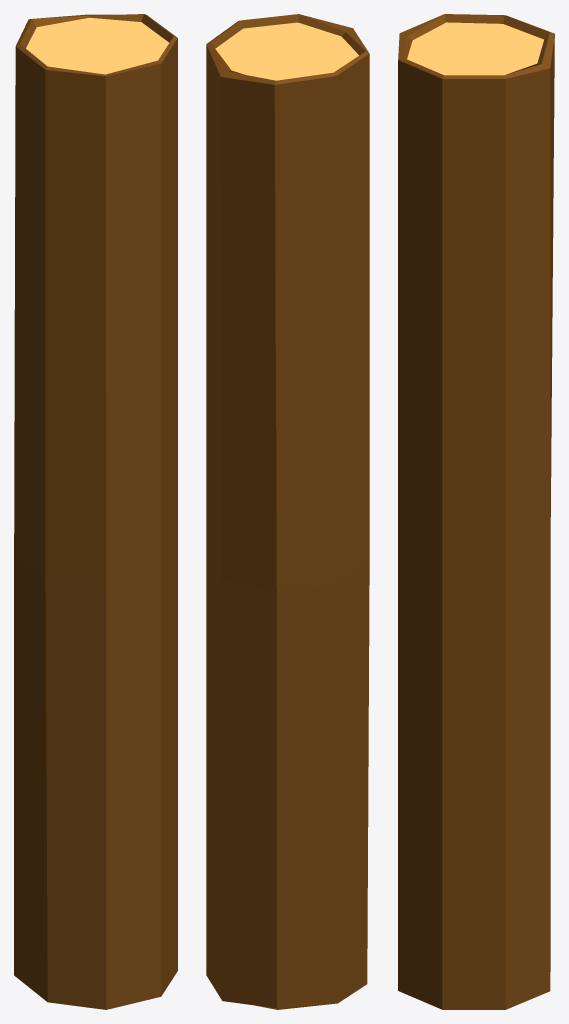
File: Log_Long.fbx
3 renders of one model, left to right at view 1: azimuth 30°, elevation 25°; view 2: azimuth 150°, elevation 25°; view 3: azimuth 270°, elevation 25°, orthographic.
Visible parts, largest first — view 1: Log_Long; view 2: Log_Long; view 3: Log_Long.
Part boxes in pixels (left/top/right/bottom): Log_Long: left=14, top=14, right=177, bottom=1009; Log_Long: left=206, top=14, right=369, bottom=1009; Log_Long: left=398, top=14, right=554, bottom=1009.
Bounding box in the file's own units: 185 × 1250 × 190.
